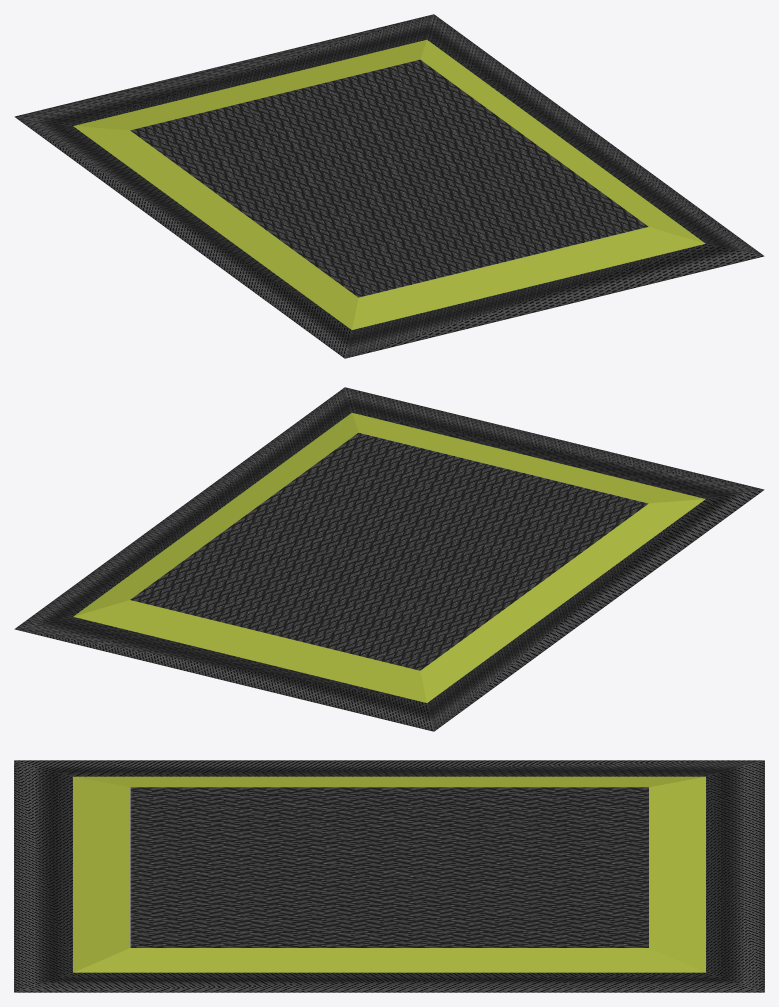
File: car side.fbx
3 renders of one model, top to bottom at view 1: azimuth 30°, elevation 25°; view 2: azimuth 150°, elevation 25°; view 3: azimuth 270°, elevation 25°, orthographic. The views are drawn at different scales.
Parts seen in each view (by area): view 1: pPlane1; view 2: pPlane1; view 3: pPlane1.
Part boxes in pixels (x1=…): pPlane1: x1=14, y1=14, x2=764, y2=358; pPlane1: x1=14, y1=387, x2=764, y2=731; pPlane1: x1=14, y1=760, x2=764, y2=992.
Bounding box in the file's own units: 2.67 × 0.0474 × 3.65.
1 material, 1 textured.
